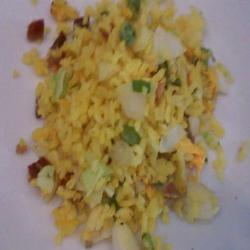rice: (40, 11, 211, 238)
